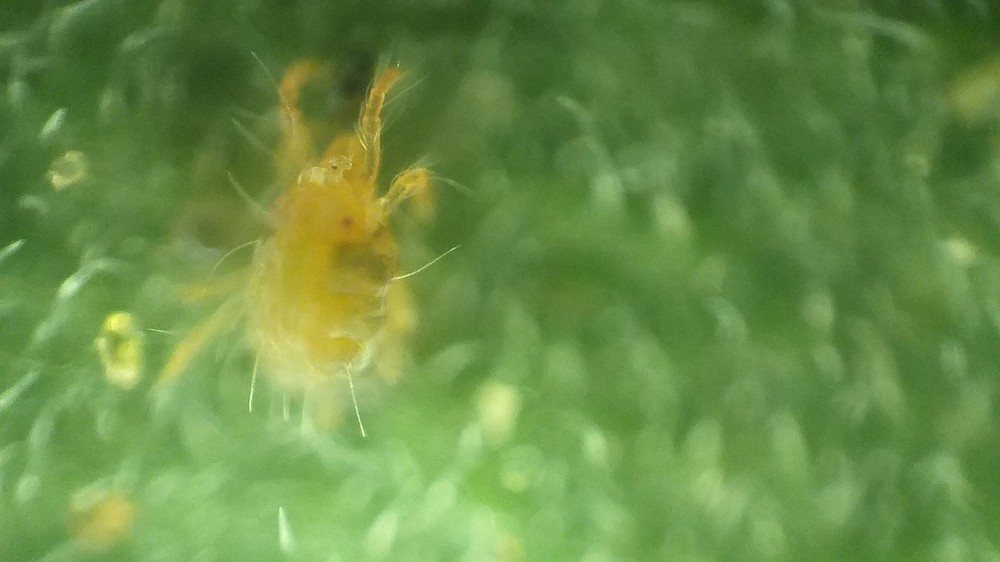Aracnido Rojo: (159, 50, 483, 470)
